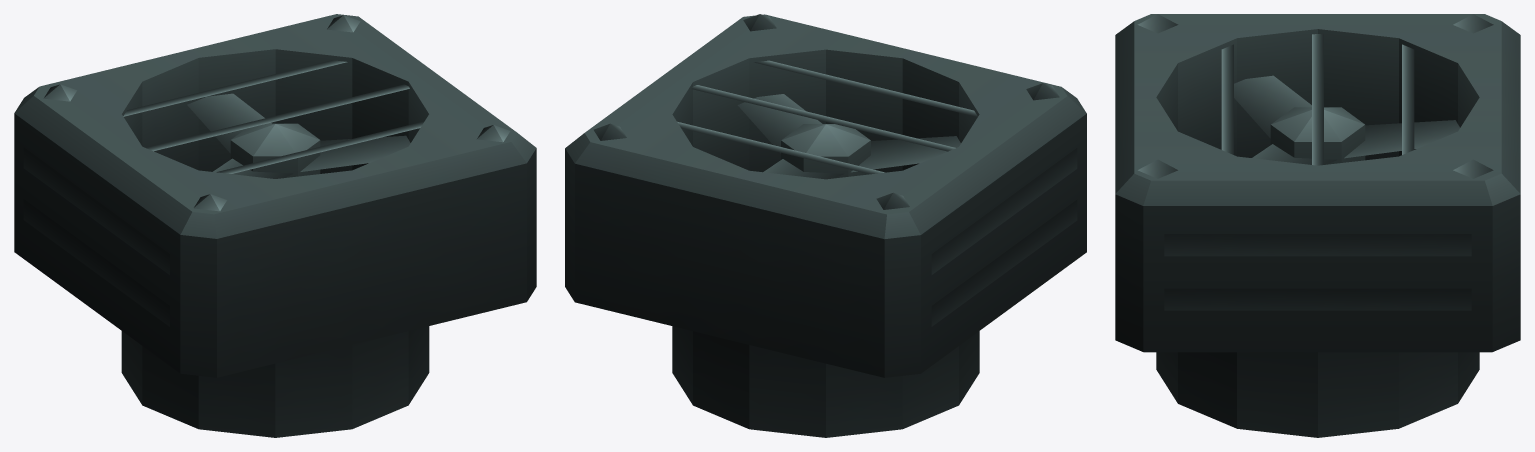
The model's file is Air_Vent_2A.fbx.
The picture shows the model from 3 angles, left to right: view 1: azimuth 30°, elevation 25°; view 2: azimuth 150°, elevation 25°; view 3: azimuth 270°, elevation 25°; orthographic projection. The views are drawn at different scales.
Visible parts, largest first — view 1: Air_Vent_2A, Fan; view 2: Air_Vent_2A, Fan; view 3: Air_Vent_2A, Fan.
Part boxes in pixels (box(x1,y1,x2,y2)): Air_Vent_2A: box(14, 14, 536, 437); Fan: box(187, 93, 410, 178); Air_Vent_2A: box(565, 14, 1086, 437); Fan: box(737, 94, 960, 179); Air_Vent_2A: box(1115, 14, 1520, 437); Fan: box(1234, 75, 1459, 164).
Size of the model in its own units: 1.44 by 1.04 by 1.35.
